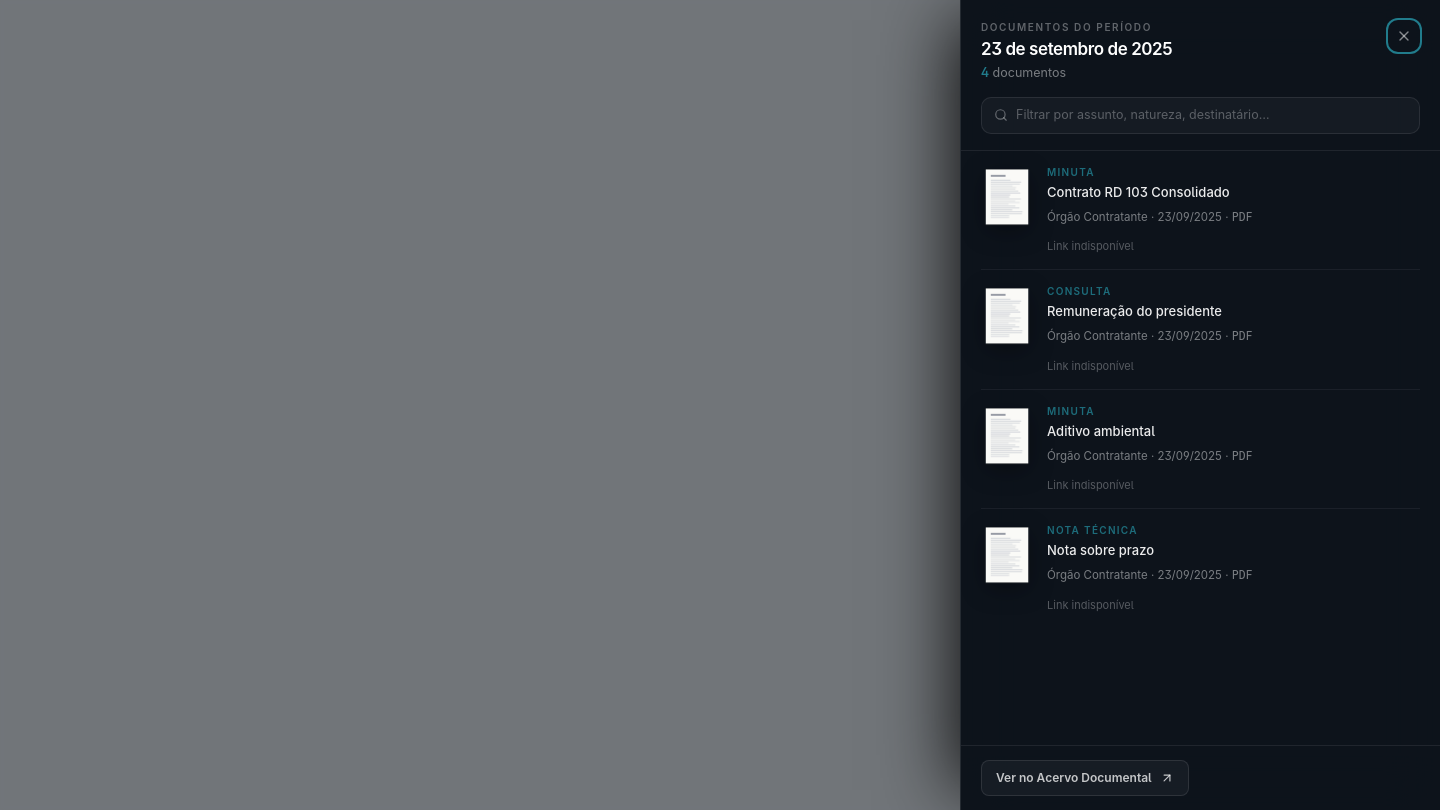
Scenario: drawer contextual do dia › o filtro local reduz a lista sem ir ao servidor
Type "minuta" into the field with placeholder "Filtrar por assunto, natureza, destinatário…" at (1212, 115), box [1016,106,1407,125]
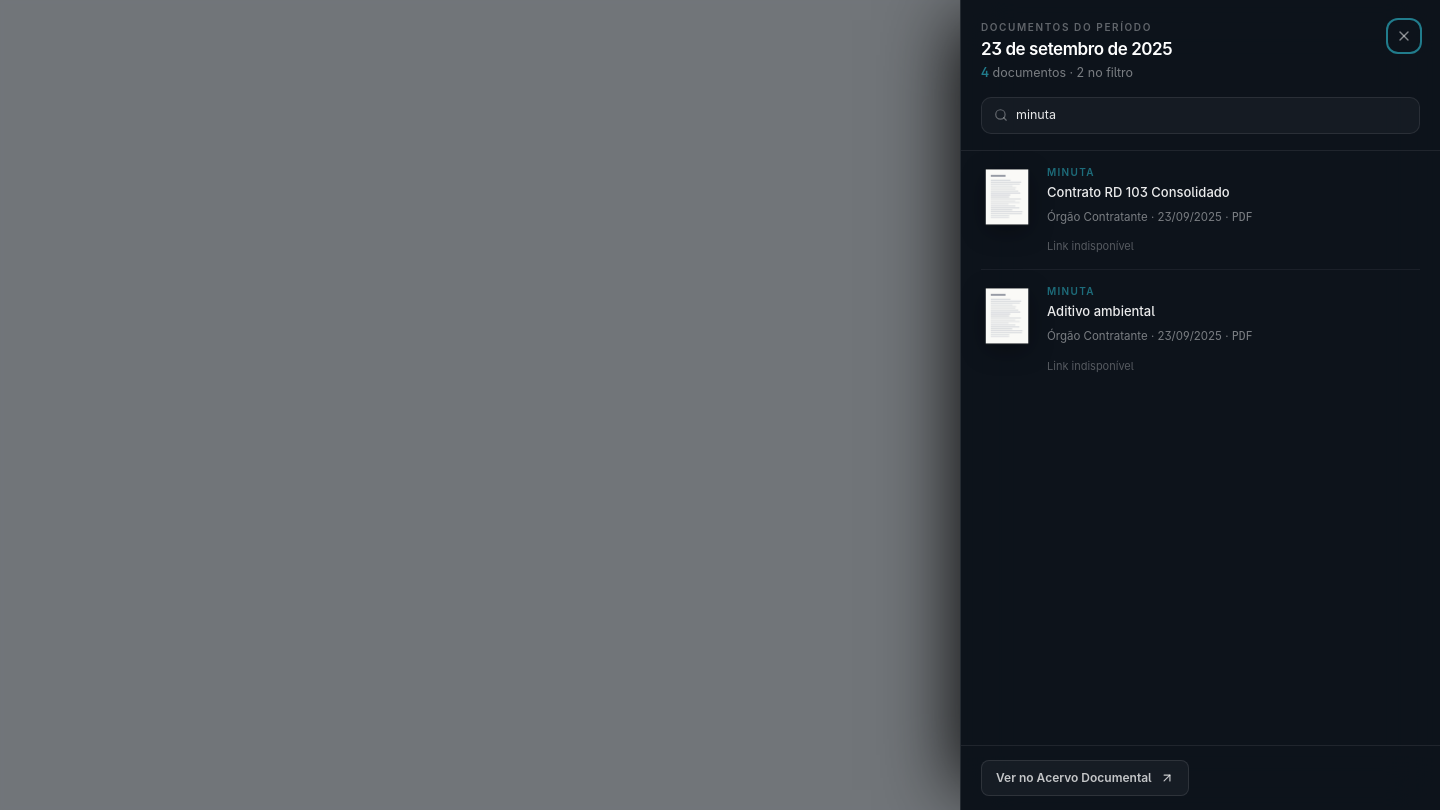
expect the number of list items is 2: met, box [981,151,1420,270]; [981,285,1252,373]
